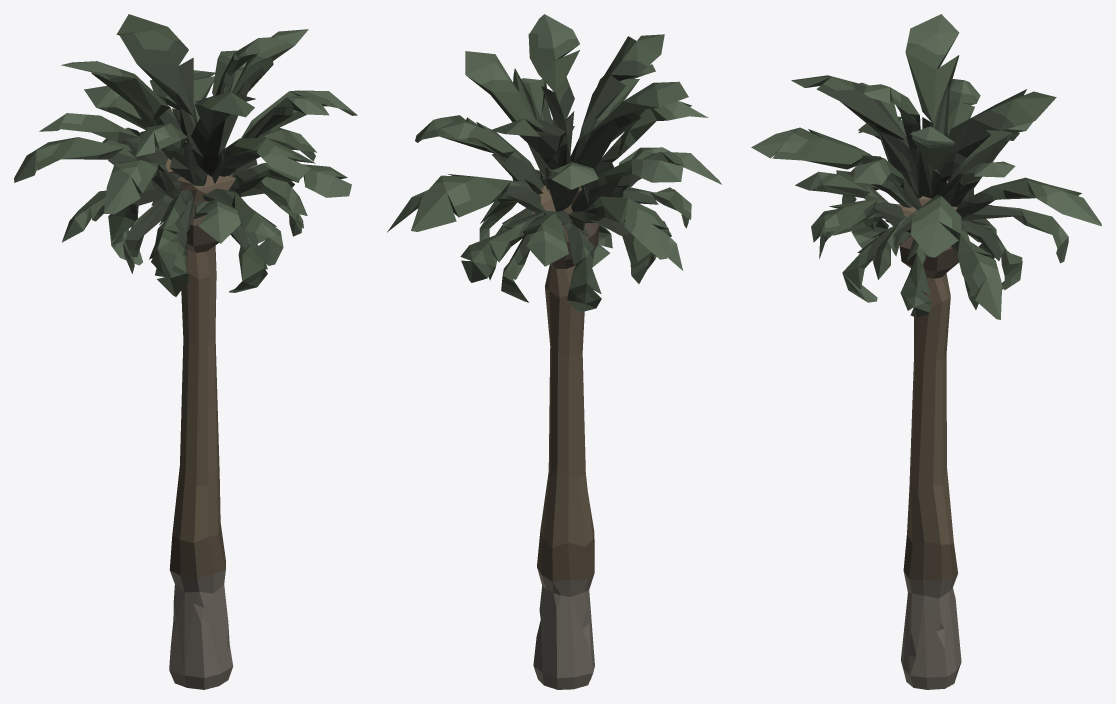
The model's file is SM_Env_Tree_Large_02.glb.
3 views of the same model, side by side, from view 1: azimuth 30°, elevation 25°; view 2: azimuth 150°, elevation 25°; view 3: azimuth 270°, elevation 25° (orthographic). The views are drawn at different scales.
Visible parts, largest first — view 1: SM_Env_Tree_Large_02; view 2: SM_Env_Tree_Large_02; view 3: SM_Env_Tree_Large_02.
Boxes of the visible parts, box(x1,y1,x2,y2) form: SM_Env_Tree_Large_02: box(14, 14, 357, 689); SM_Env_Tree_Large_02: box(387, 14, 721, 689); SM_Env_Tree_Large_02: box(751, 14, 1101, 689).
Bounding box in the file's own units: 6.3 × 13.08 × 6.74.
1 material, 1 textured.
